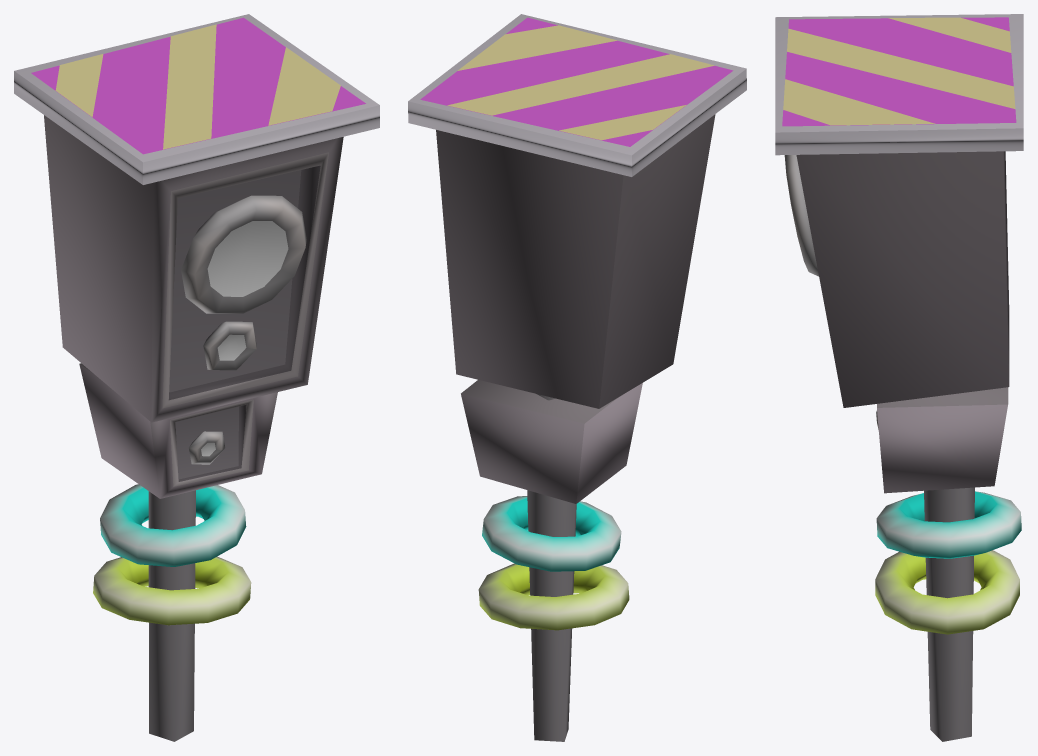
Rendered from speakerTower_tower_geo.glb.
The picture shows the model from 3 angles, left to right: view 1: azimuth 30°, elevation 25°; view 2: azimuth 150°, elevation 25°; view 3: azimuth 270°, elevation 25°; orthographic projection. The views are drawn at different scales.
Parts seen in each view (by area): view 1: speakerTower_tower_geo; view 2: speakerTower_tower_geo; view 3: speakerTower_tower_geo.
Boxes of the visible parts, x1,y1,x2,y2 form: speakerTower_tower_geo: (14, 14, 379, 741); speakerTower_tower_geo: (408, 14, 746, 741); speakerTower_tower_geo: (775, 14, 1023, 741).
Size of the model in its own units: 0.6888 by 1.82 by 0.6179.
